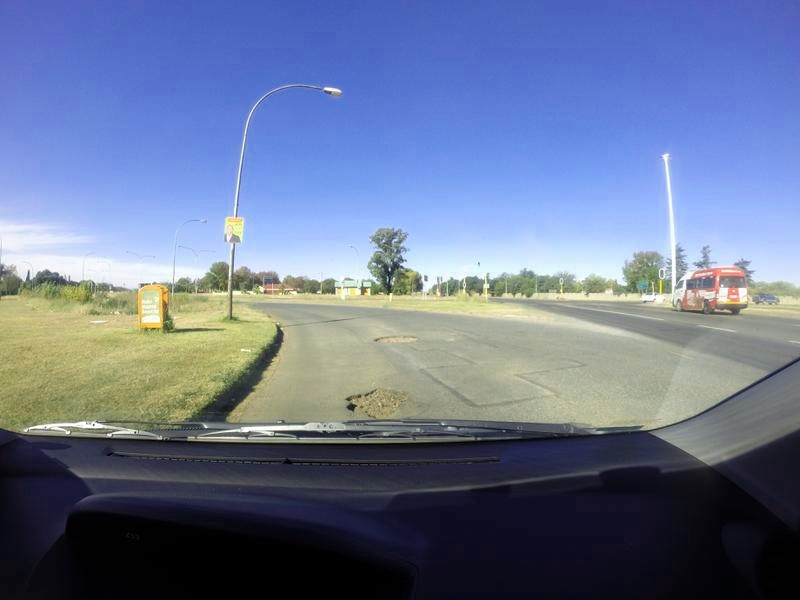pothole: (332, 379, 431, 416), (370, 331, 422, 349)
